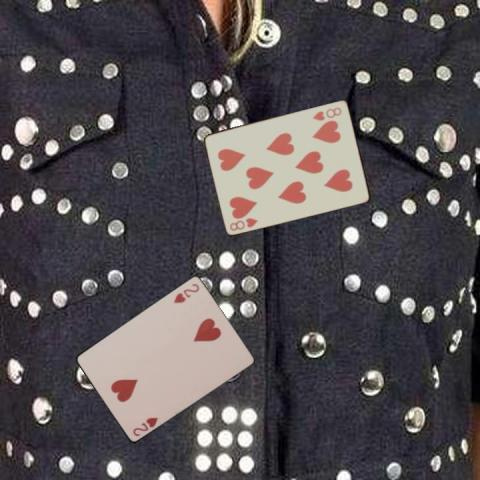2h: (170, 281, 201, 305), (129, 415, 159, 438)
8h: (310, 104, 343, 122), (227, 215, 259, 232)
